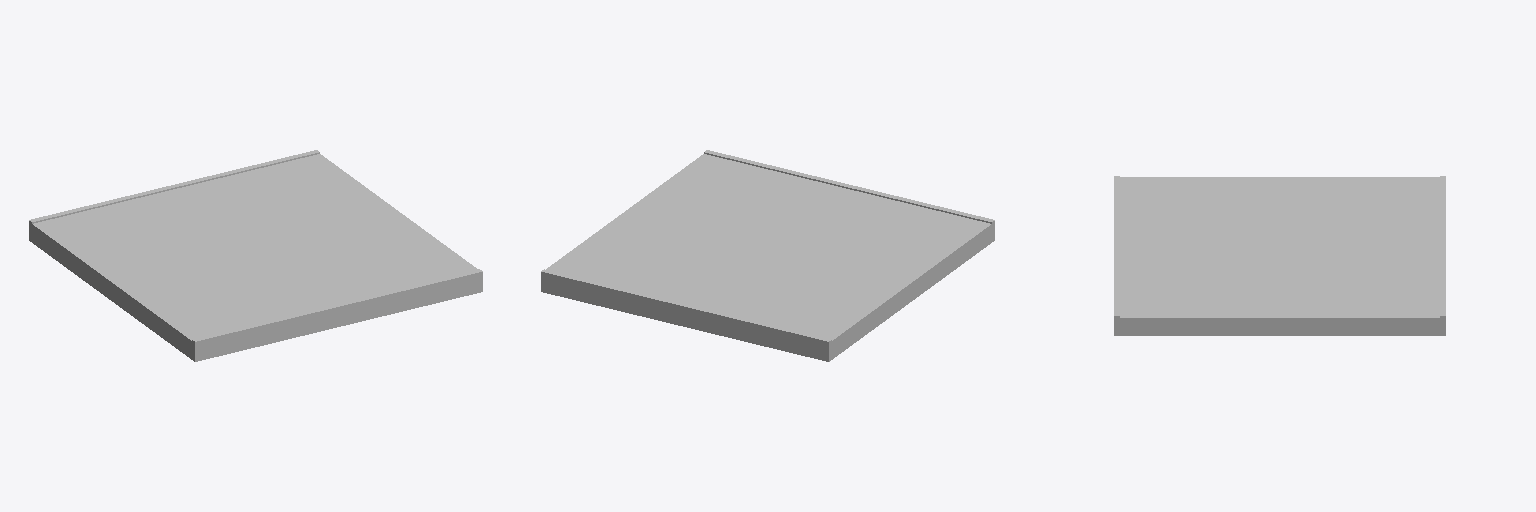
The model's file is road (0.96f x 0.08m).obj.
3 views of the same model, side by side, from view 1: azimuth 30°, elevation 25°; view 2: azimuth 150°, elevation 25°; view 3: azimuth 270°, elevation 25° (orthographic).
Parts seen in each view (by area): view 1: Cube; view 2: Cube; view 3: Cube.
Part boxes in pixels (bbox=[...]): Cube: bbox=[29, 150, 482, 361]; Cube: bbox=[541, 150, 994, 361]; Cube: bbox=[1114, 176, 1445, 335].
Bounding box in the file's own units: 16 × 1.08 × 16.